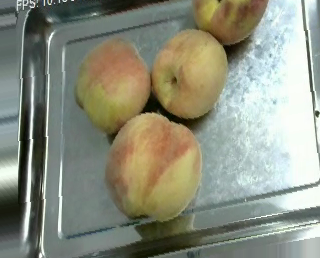Peach: (104, 112, 201, 223), (74, 35, 150, 131), (150, 27, 228, 120), (192, 0, 271, 44)
